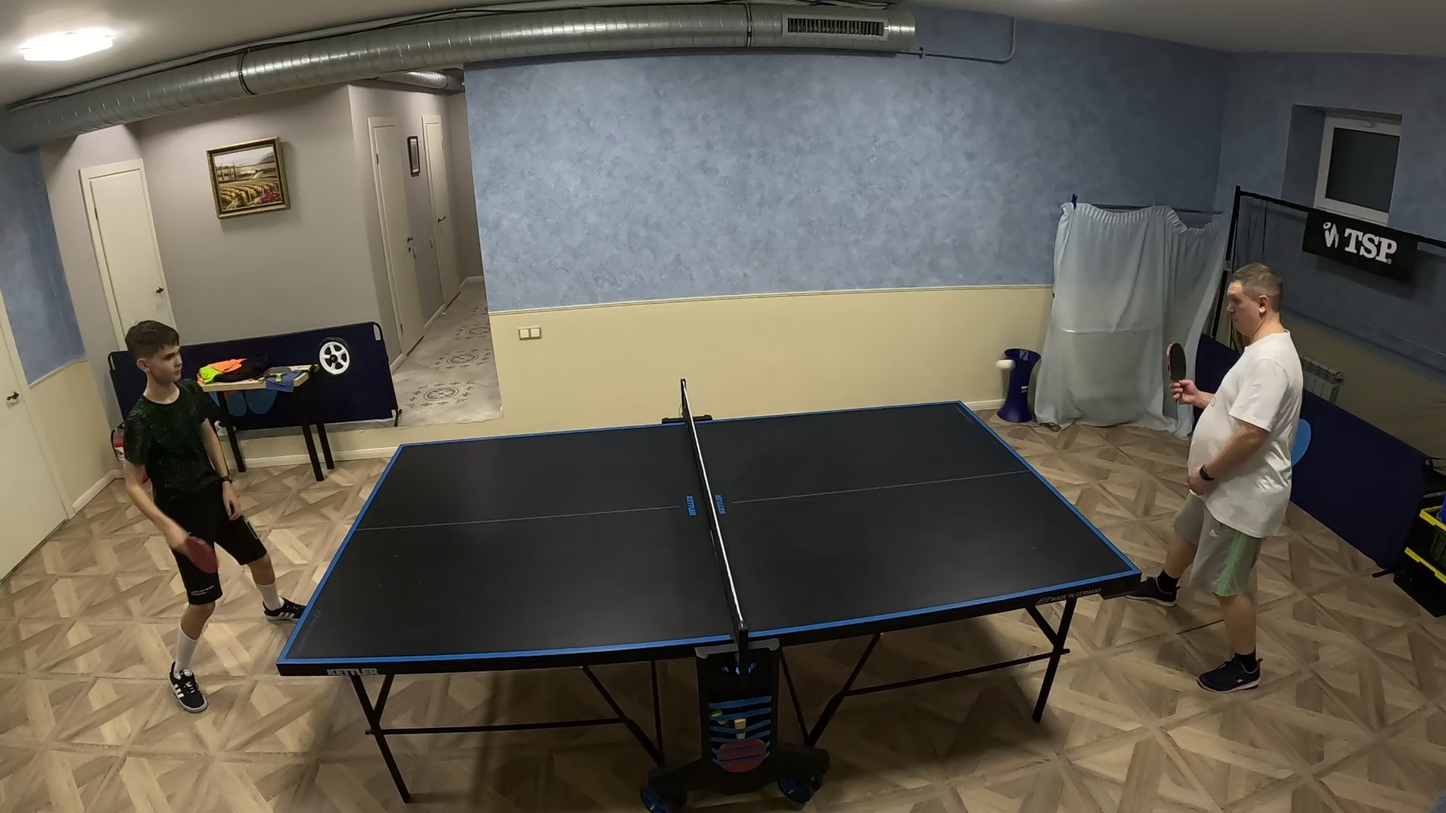Ball: (996, 360, 1013, 369)
